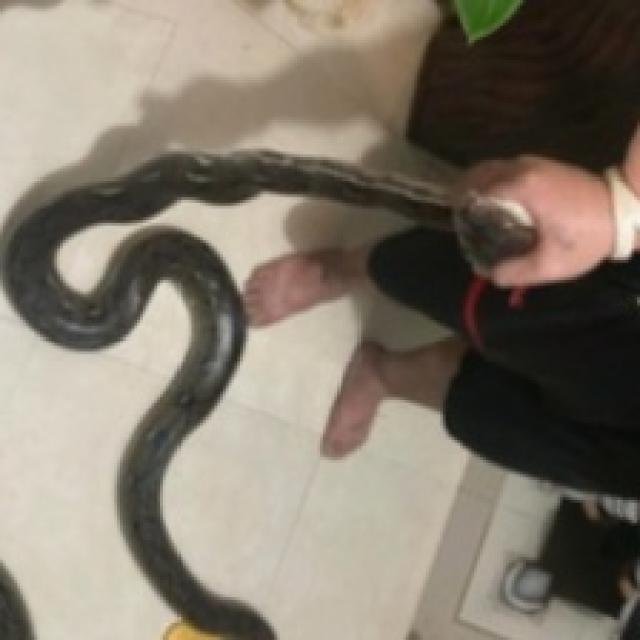reticulated python: (0, 149, 534, 637)
